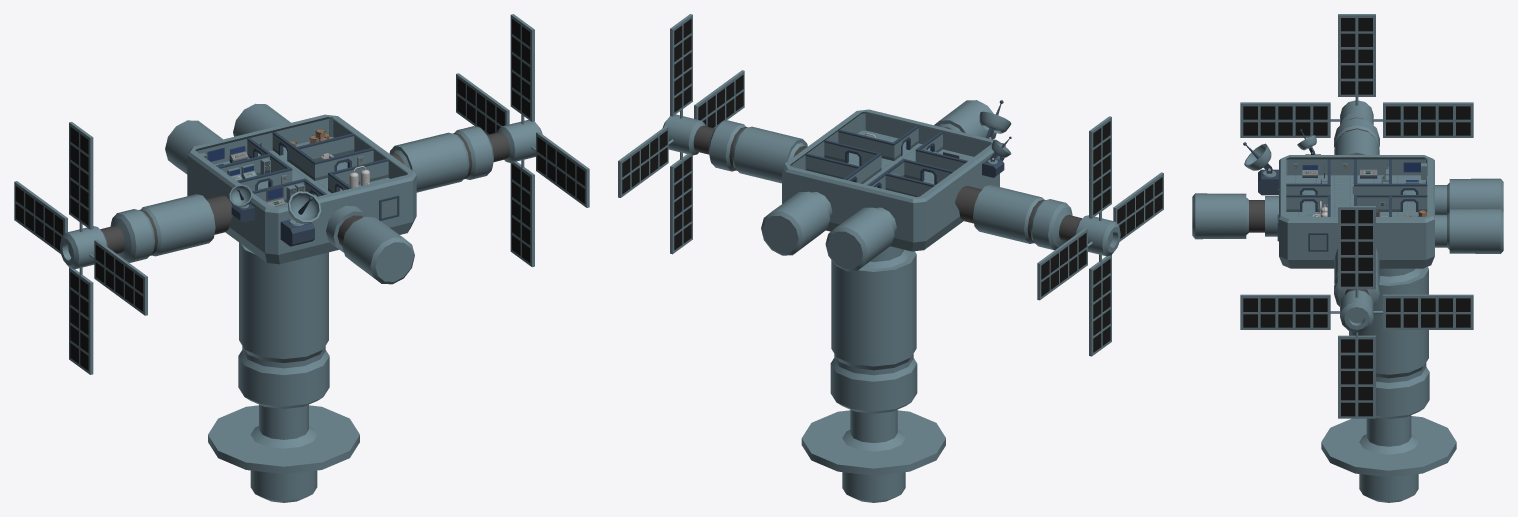
Rendered from Station.fbx.
The picture shows the model from 3 angles, left to right: view 1: azimuth 30°, elevation 25°; view 2: azimuth 150°, elevation 25°; view 3: azimuth 270°, elevation 25°; orthographic projection. The views are drawn at different scales.
Parts seen in each view (by area): view 1: StationBottom, Walls, ReflectorRight, ReflectorLeft, StationRight, StationLeft, Station, StationFront, StationTubeBack02, StationTubeBack01, pCylinder2, Floor (+1 smaller); view 2: StationBottom, Walls, ReflectorRight, ReflectorLeft, StationRight, Station, StationLeft, StationTubeBack02, StationTubeBack01, StationFront, Floor; view 3: StationBottom, ReflectorLeft, ReflectorRight, Walls, StationFront, StationTubeBack01, Station, Floor, StationTubeBack02, StationRight, StationLeft, FloorDecor (+3 smaller).
Boxes of the visible parts, x1,y1,x2,y2 form: StationBottom: [208, 242, 359, 502]; Walls: [187, 114, 416, 264]; ReflectorRight: [14, 122, 147, 374]; ReflectorLeft: [456, 14, 589, 267]; StationRight: [60, 194, 232, 269]; StationLeft: [389, 119, 542, 192]; Station: [217, 132, 388, 202]; StationFront: [326, 205, 414, 284]; StationTubeBack02: [165, 120, 222, 174]; StationTubeBack01: [233, 103, 290, 136]; pCylinder2: [288, 191, 321, 223]; Floor: [215, 137, 389, 204]; StationBottom: [801, 246, 945, 502]; Walls: [782, 109, 999, 251]; ReflectorRight: [1037, 116, 1163, 356]; ReflectorLeft: [618, 14, 744, 254]; StationRight: [955, 185, 1120, 256]; Station: [805, 126, 967, 196]; StationLeft: [662, 114, 807, 183]; StationTubeBack02: [825, 207, 896, 271]; StationTubeBack01: [761, 191, 832, 255]; StationFront: [934, 100, 996, 139]; Floor: [848, 130, 973, 187]; StationBottom: [1321, 267, 1456, 502]; ReflectorLeft: [1240, 206, 1473, 418]; ReflectorRight: [1240, 14, 1473, 137]; Walls: [1279, 155, 1434, 268]; StationFront: [1192, 193, 1278, 239]; StationTubeBack01: [1435, 208, 1503, 253]; Station: [1286, 159, 1427, 216]; Floor: [1286, 175, 1427, 216]; StationTubeBack02: [1435, 178, 1503, 214]; StationRight: [1334, 100, 1379, 154]; StationLeft: [1334, 249, 1379, 332]; FloorDecor: [1278, 175, 1424, 216].
Size of what is drawn, in the model's own units: 166 by 145 by 107.
